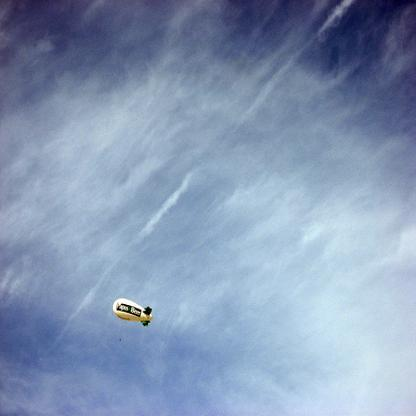Airship: (108, 291, 158, 330)
